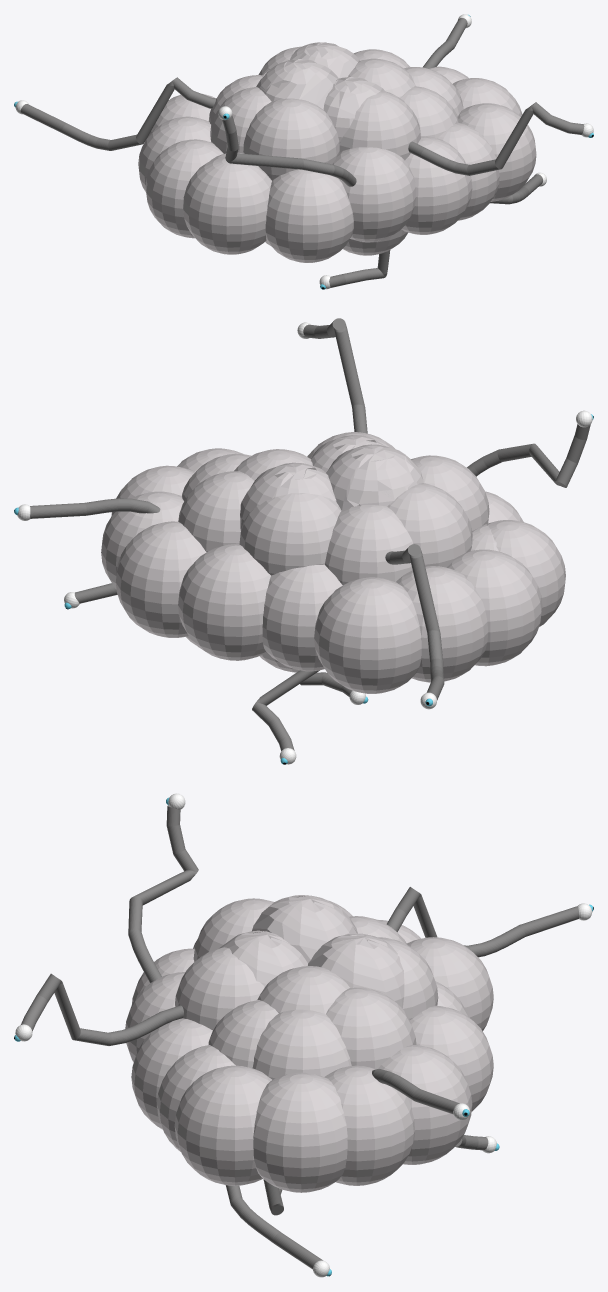
The model's file is Lava_Hound.fbx.
The picture shows the model from 3 angles, top to bottom: view 1: azimuth 30°, elevation 25°; view 2: azimuth 150°, elevation 25°; view 3: azimuth 270°, elevation 25°; orthographic projection. The views are drawn at different scales.
Parts seen in each view (by area): view 1: Sphere; view 2: Sphere; view 3: Sphere.
Part boxes in pixels (x1,y1,x2,y2): Sphere: [14, 14, 593, 289]; Sphere: [14, 318, 593, 764]; Sphere: [14, 793, 593, 1277].
Size of the model in its own units: 984 by 558 by 963.
